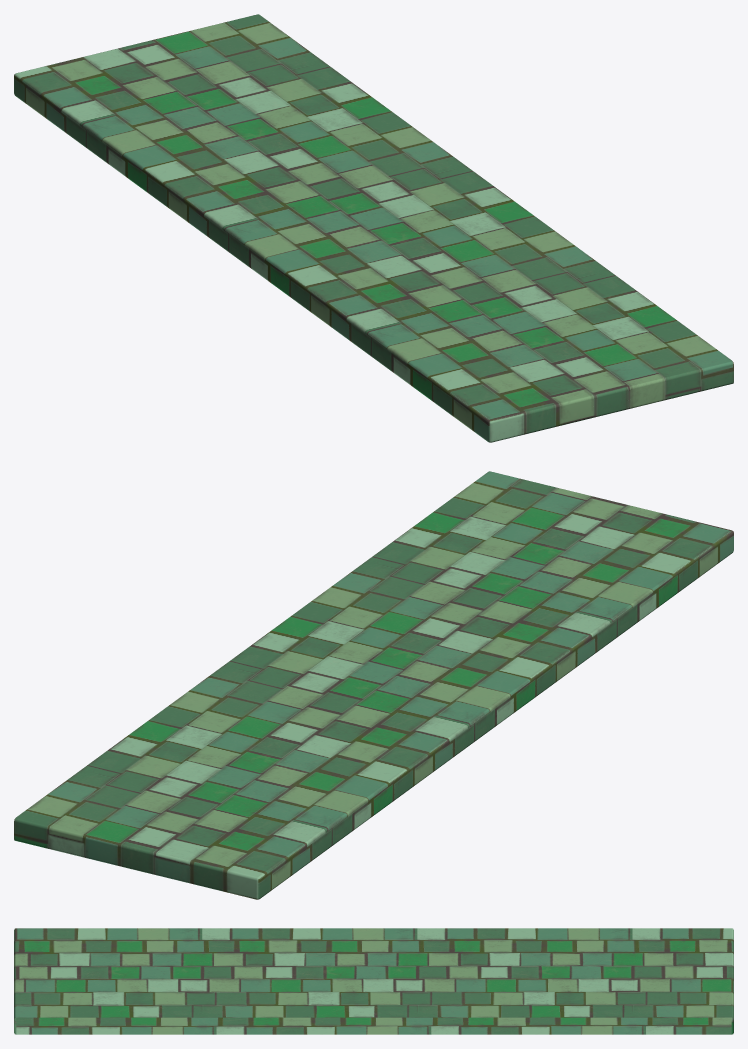
Rendered from SM_Kitchen_Countertop_C.fbx.
3 views of the same model, one above another, from view 1: azimuth 30°, elevation 25°; view 2: azimuth 150°, elevation 25°; view 3: azimuth 270°, elevation 25° (orthographic). The views are drawn at different scales.
Parts seen in each view (by area): view 1: SM_Kitchen_Countertop_C_LOD0; view 2: SM_Kitchen_Countertop_C_LOD0; view 3: SM_Kitchen_Countertop_C_LOD0.
Part boxes in pixels (x1=…): SM_Kitchen_Countertop_C_LOD0: x1=14, y1=14, x2=733, y2=442; SM_Kitchen_Countertop_C_LOD0: x1=14, y1=471, x2=733, y2=899; SM_Kitchen_Countertop_C_LOD0: x1=14, y1=928, x2=733, y2=1034.
Size of the model in its own units: 106 by 358 by 9.43.
Materials: 1 (1 with a texture image).
